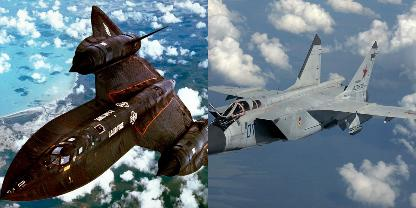Mig31: (208, 34, 414, 156)
Rafale: (0, 5, 208, 201)
